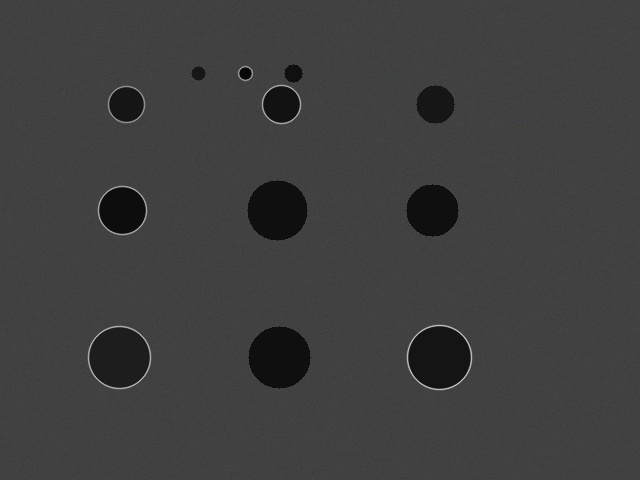hole: (407, 325, 471, 389), (88, 326, 150, 388), (248, 326, 310, 388), (247, 180, 307, 240), (406, 184, 458, 236), (98, 186, 146, 234), (262, 85, 300, 123), (416, 85, 454, 123), (108, 86, 144, 122), (284, 64, 302, 82), (191, 66, 205, 80), (238, 66, 252, 80)
